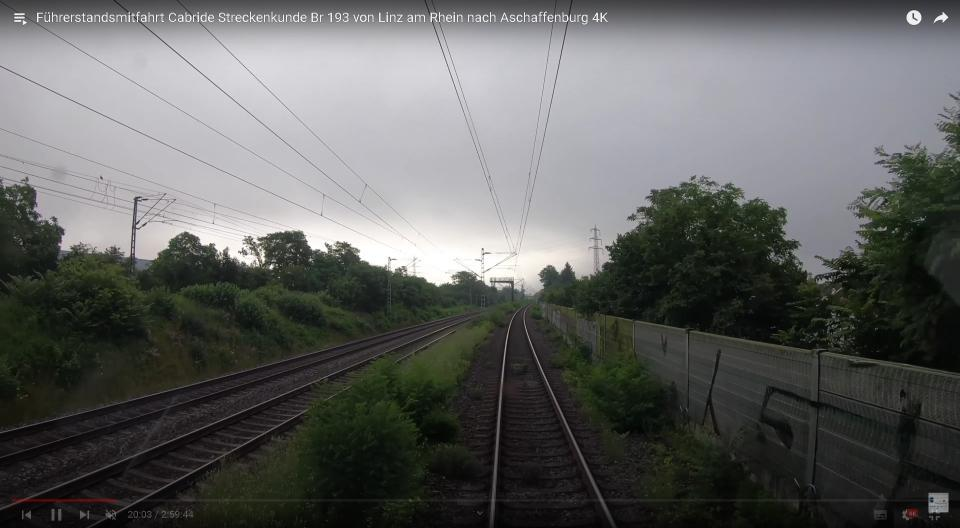Plant: (202, 306, 512, 499), (541, 321, 823, 528), (174, 502, 428, 528), (468, 387, 485, 399), (530, 306, 542, 320), (514, 364, 526, 374)
